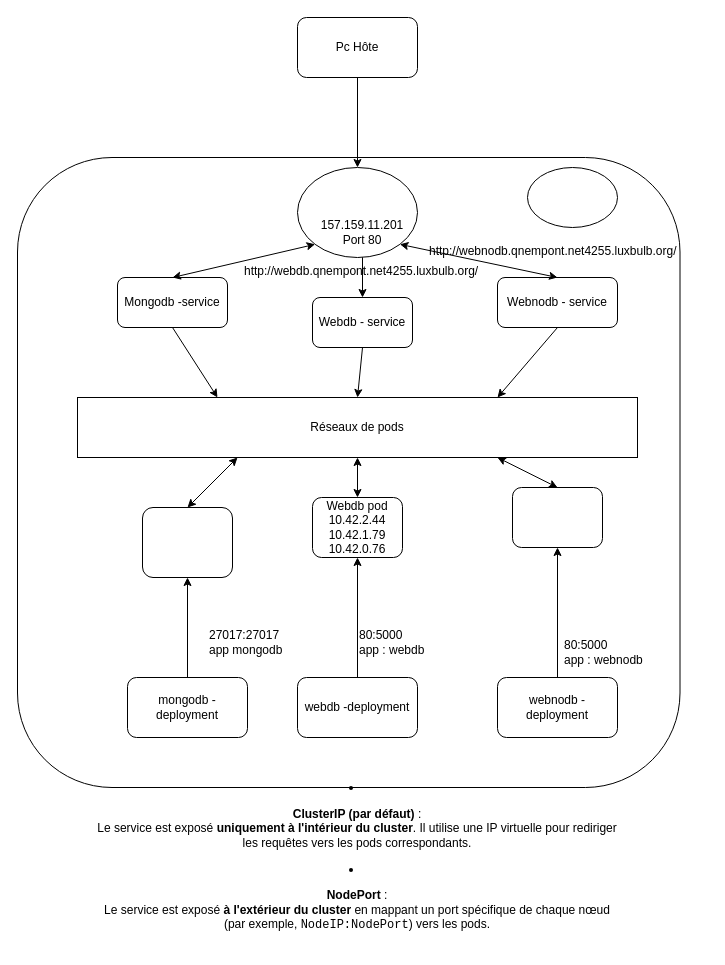
Image size: 725x965. Some labels were removed from this diagram. Here are the shapes that lost their labels. From the top down, the box of each, then its label:
(296, 166, 418, 258): Ingress
(526, 166, 618, 228): Cluster IP DNS
(512, 486, 602, 548): Webnodb pod 10.42.0.102
(142, 506, 232, 578): Mongo db 10.42.4.109
